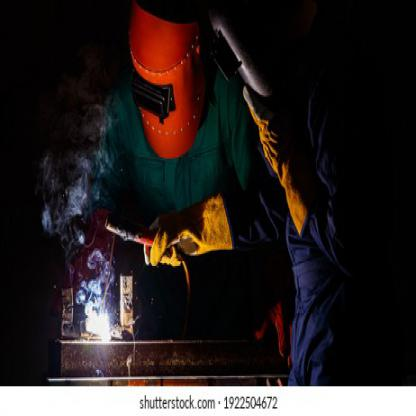with_gloves: (246, 97, 320, 236), (143, 192, 235, 266)
